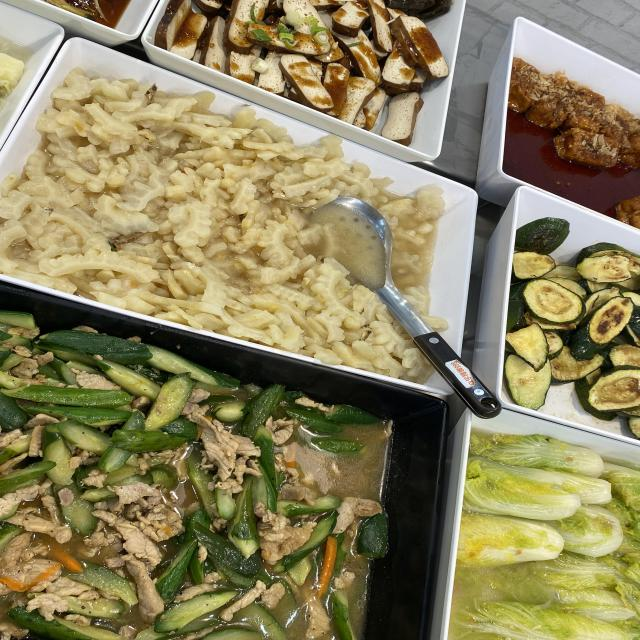bitter gourd: (56, 123, 295, 283)
